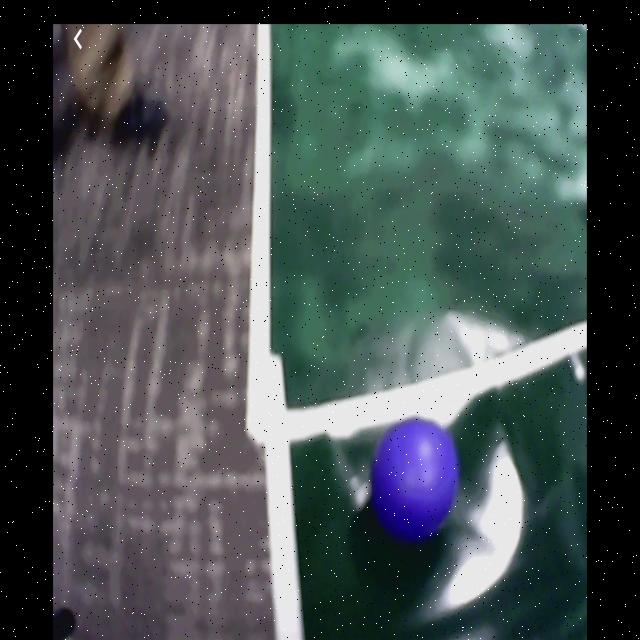ball: (372, 414, 459, 539)
